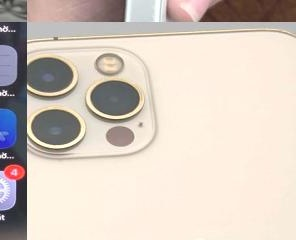scratch: (147, 3, 159, 22)
